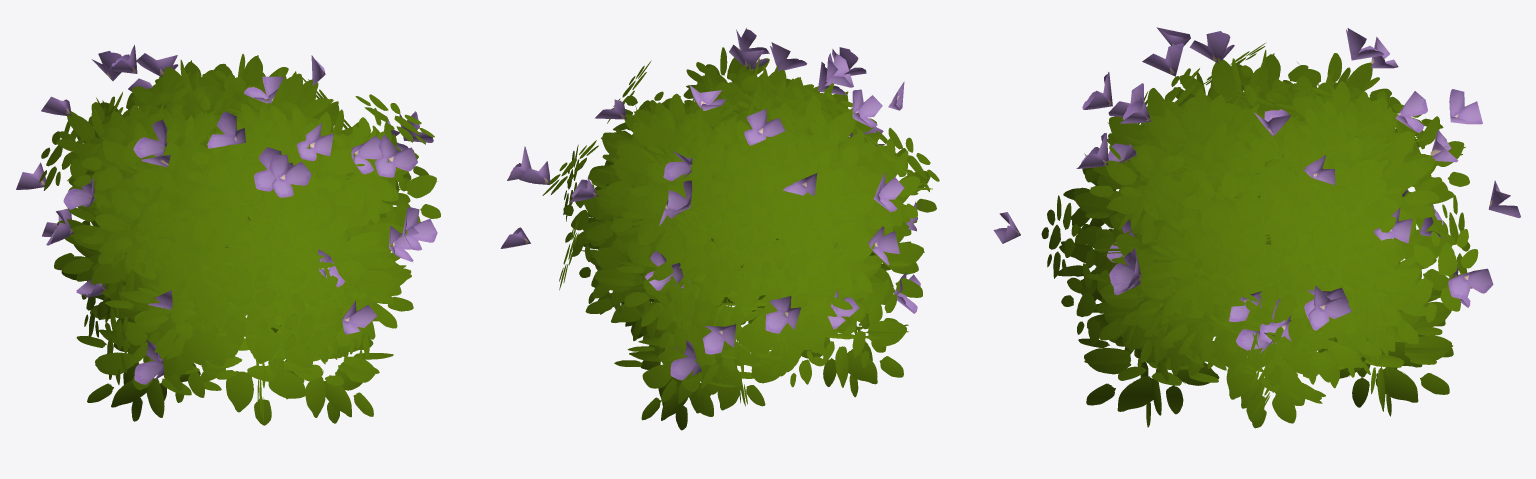
The model's file is Bush_Common_Flowers.glb.
3 renders of one model, left to right at view 1: azimuth 30°, elevation 25°; view 2: azimuth 150°, elevation 25°; view 3: azimuth 270°, elevation 25°, orthographic. The views are drawn at different scales.
Parts seen in each view (by area): view 1: Bush_Common_Flowers; view 2: Bush_Common_Flowers; view 3: Bush_Common_Flowers.
Part boxes in pixels (x1,y1,x2,y2): Bush_Common_Flowers: (16,45,440,425); Bush_Common_Flowers: (500,28,939,430); Bush_Common_Flowers: (993,27,1520,428).
Bounding box in the file's own units: 1.78 × 1.57 × 1.9.
Materials: 2 (2 with a texture image).
